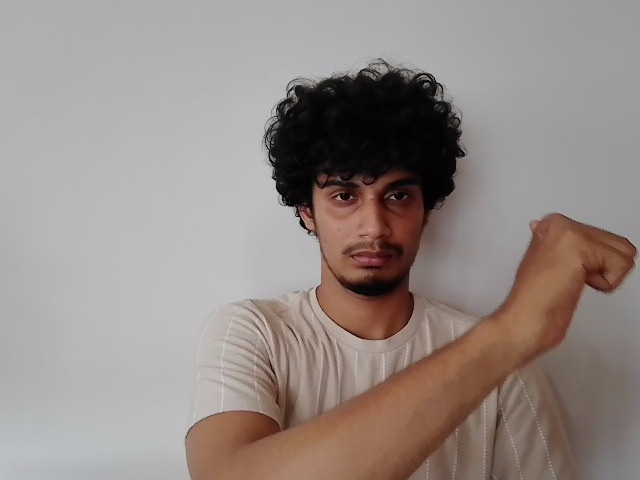how: (509, 211, 639, 349)
